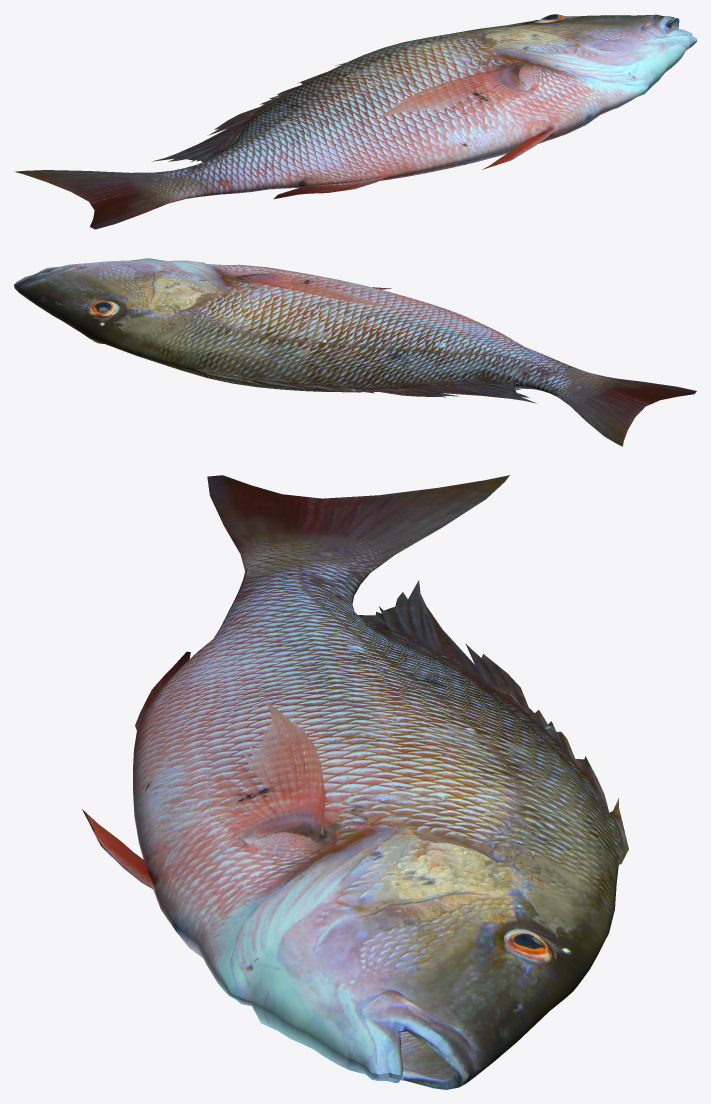
Rendered from fish.obj.
3 renders of one model, top to bottom at view 1: azimuth 30°, elevation 25°; view 2: azimuth 150°, elevation 25°; view 3: azimuth 270°, elevation 25°, orthographic. The views are drawn at different scales.
Parts seen in each view (by area): view 1: fish; view 2: fish; view 3: fish.
Part boxes in pixels (x1,y1,x2,y2): fish: (14,14,696,229); fish: (14,258,696,446); fish: (82,475,628,1089).
Bounding box in the file's own units: 2.27 × 0.2356 × 0.8674.
Materials: 1 (1 with a texture image).
